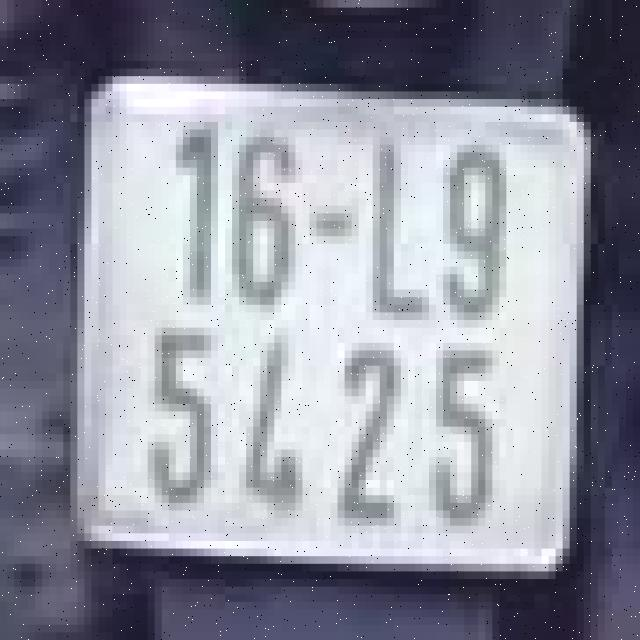1: (172, 103, 229, 316)
2: (330, 336, 401, 534)
4: (236, 328, 306, 518)
5: (425, 336, 517, 534), (144, 324, 215, 514)
6: (236, 126, 299, 324)
9: (443, 134, 521, 332)
L: (359, 122, 436, 320)
